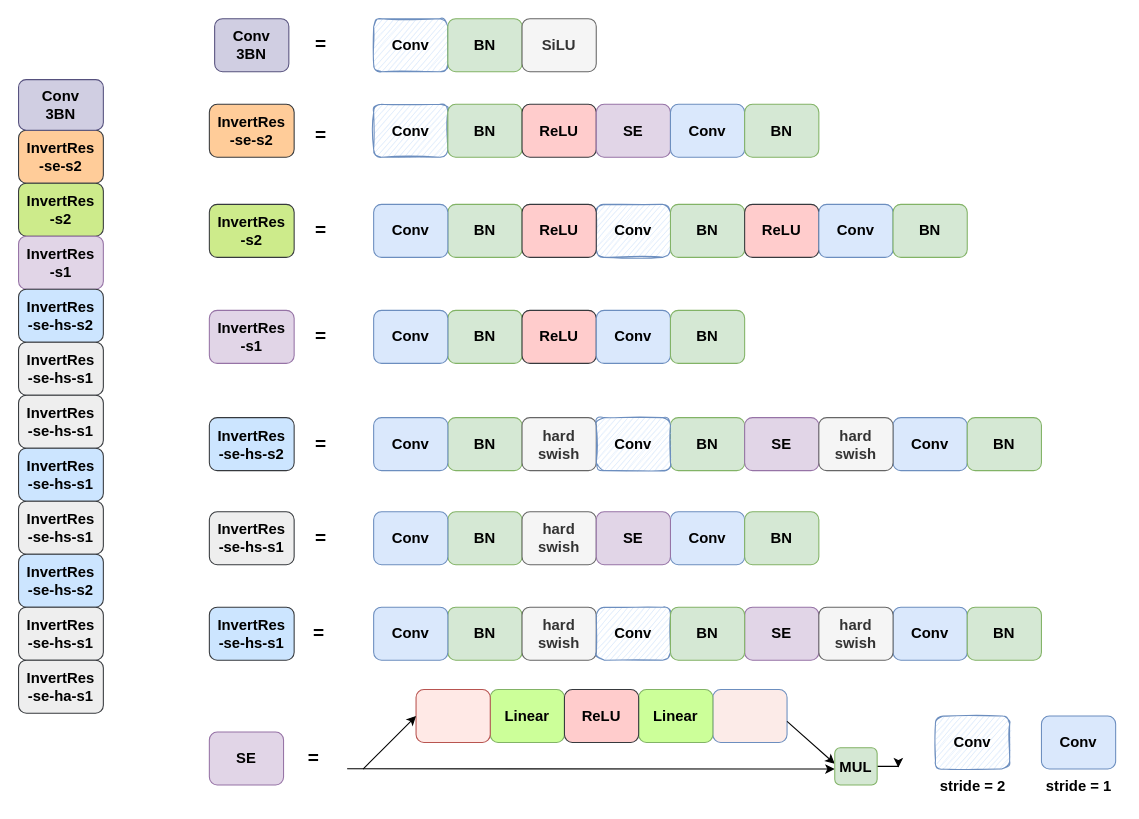
Image size: 1139x819. Some labels were removed from this diagram. The box of each missing label's shape, as (x1, y1, x2, y2) in pixels:
Adaptive Avgpool: (415, 688, 490, 743)
Sigmoid: (712, 688, 787, 743)
